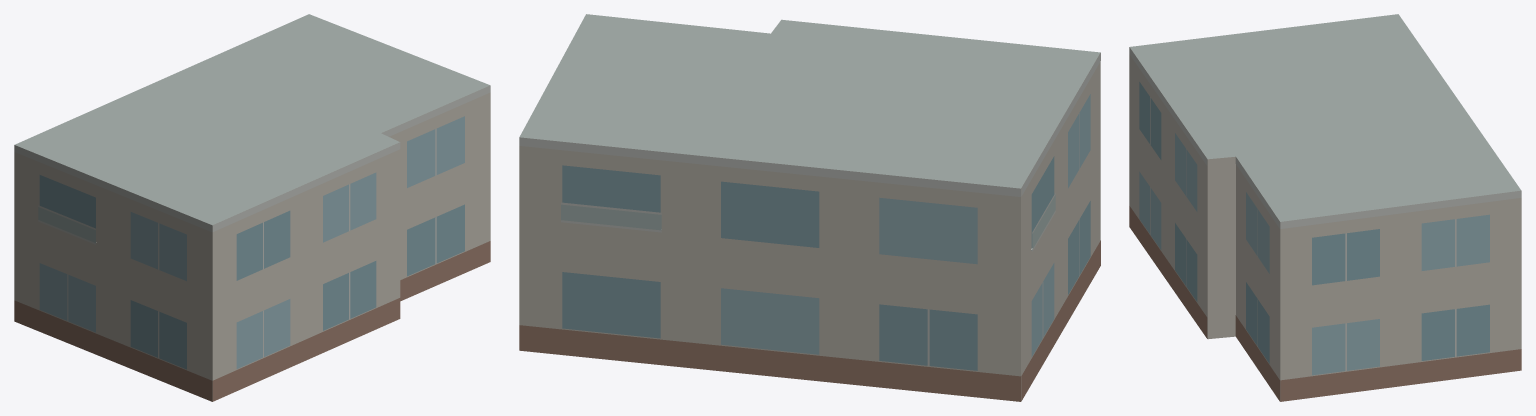
Rendered from survey-upis-32561517.glb.
3 views of the same model, side by side, from view 1: azimuth 30°, elevation 25°; view 2: azimuth 150°, elevation 25°; view 3: azimuth 270°, elevation 25° (orthographic). The views are drawn at different scales.
Visible parts, largest first — view 1: survey-upis-32561517.tmp; view 2: survey-upis-32561517.tmp; view 3: survey-upis-32561517.tmp.
Part boxes in pixels (<box>): survey-upis-32561517.tmp: <box>14,14,490,401</box>; survey-upis-32561517.tmp: <box>519,14,1100,401</box>; survey-upis-32561517.tmp: <box>1129,14,1521,401</box>.
Size of the model in its own units: 15.13 by 6.1 by 12.06.
